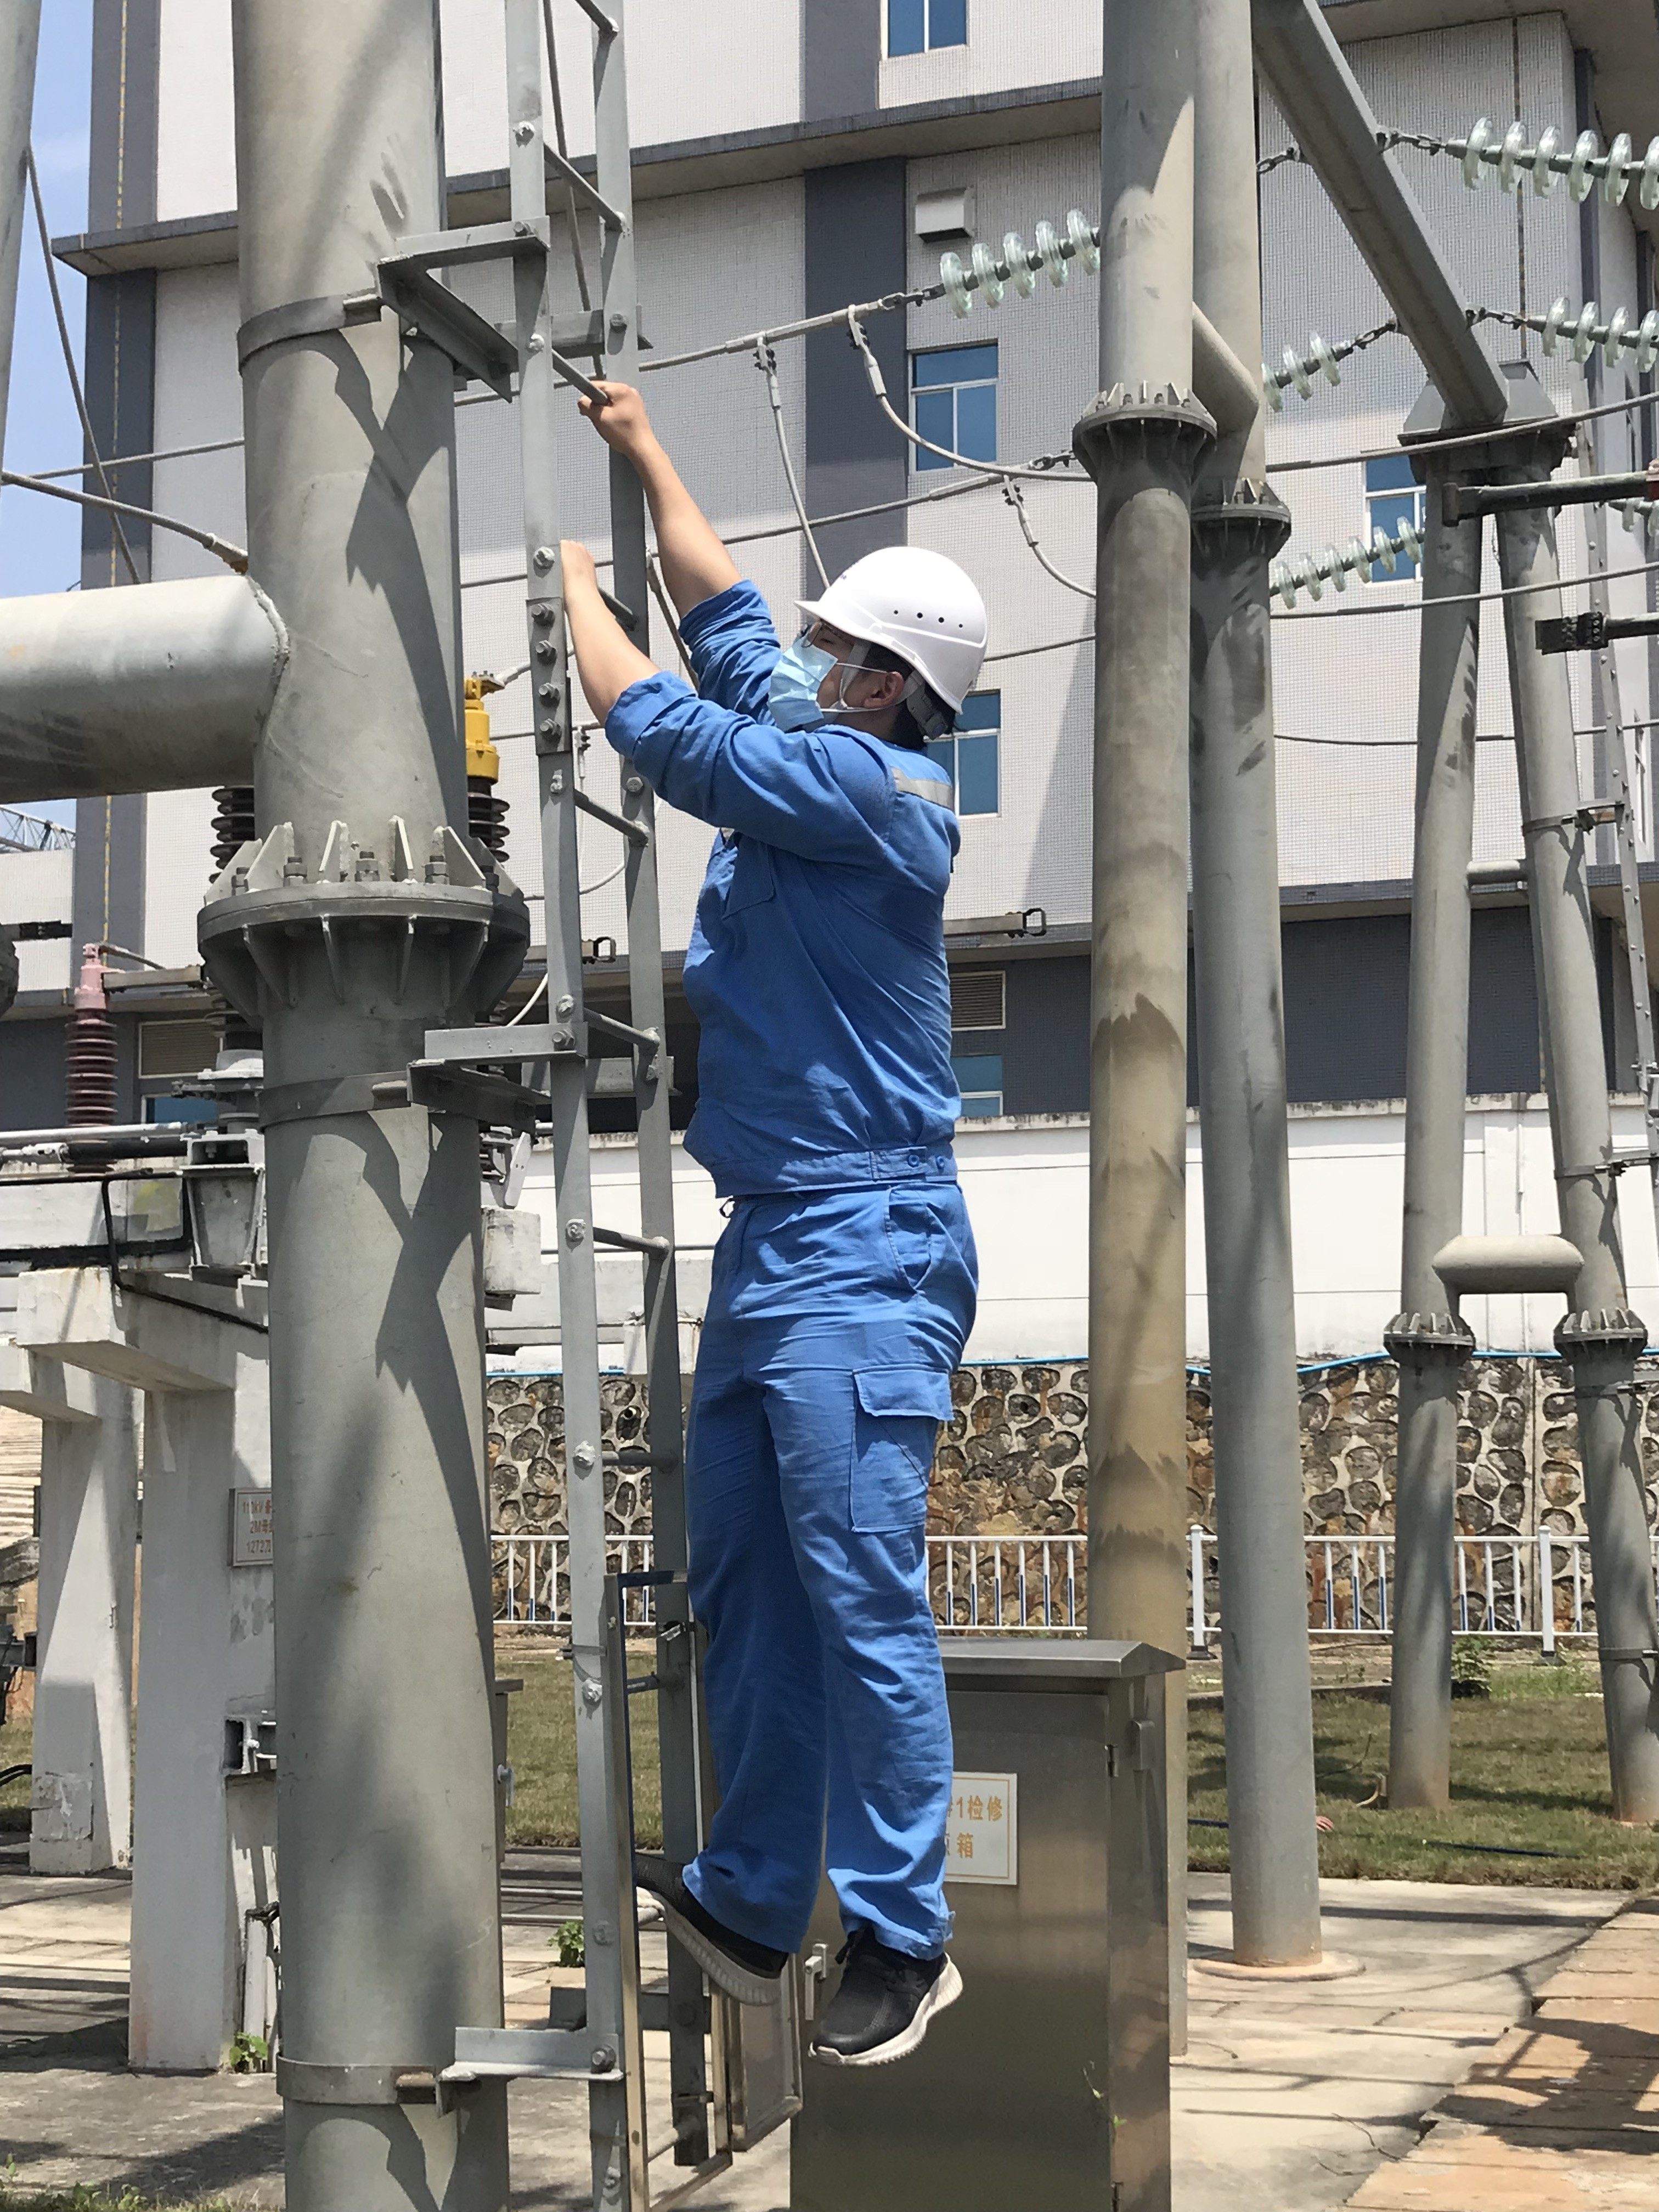downsuit: (674, 1247, 981, 1949)
upsuit: (626, 580, 971, 1177)
wrongtop: (559, 388, 767, 738)
